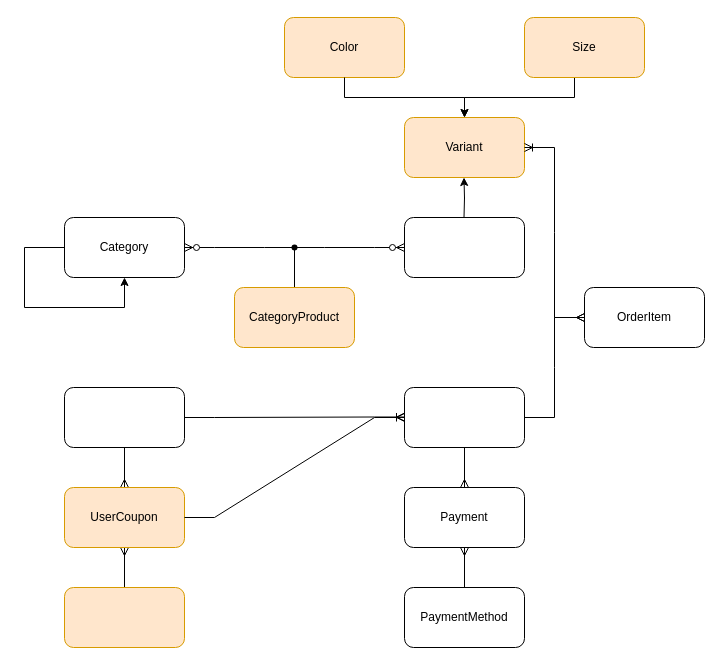
Image size: 722x665. Some labels were removed from this diagram. Each missing label, with the centre of its shape:
Coupon: point 124,617
Order: point 464,417
Product: point 464,247
User: point 124,417
